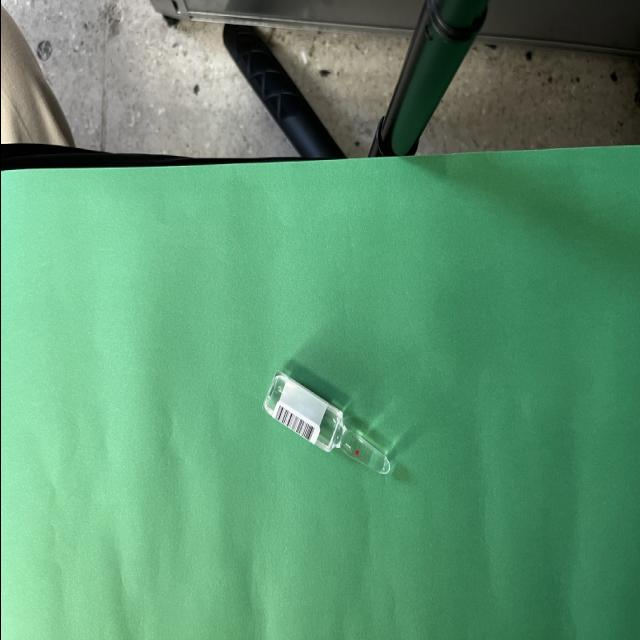Ampoules: (263, 371, 390, 474)
